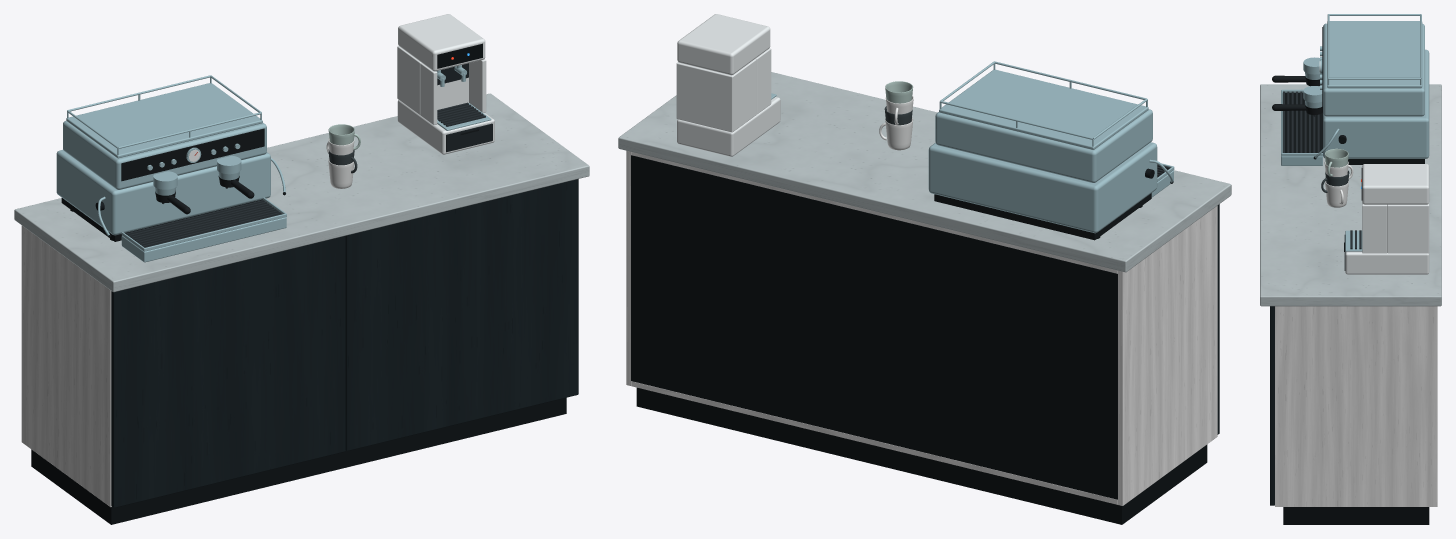
The model's file is Office_Coffee_Bar.glb.
3 views of the same model, side by side, from view 1: azimuth 30°, elevation 25°; view 2: azimuth 150°, elevation 25°; view 3: azimuth 270°, elevation 25° (orthographic). The views are drawn at different scales.
Visible parts, largest first — view 1: Door_Left, Door_Right, Countertop_Slab, Side_Left, Plinth, Housing_Lower, Cup_Warmer, Housing_Upper, Drip_Tray_Grate (×2), Head, Control_Panel, Alcove_Back (+6 smaller); view 2: Back_Panel, Countertop_Slab, Side_Left, Housing_Lower, Plinth, Cup_Warmer, Housing_Upper, Alcove_Back, Head, Bottom_Panel, Bay_Body, Top_Panel (+3 smaller); view 3: Side_Right, Countertop_Slab, Cup_Warmer, Housing_Lower, Housing_Upper, Head, Plinth, Alcove_Back, Bay_Body, Drip_Tray_Basin, Alcove_Wall_Right, Drip_Tray_Grate (+10 smaller).
Boxes of the visible parts, bbox=[...] form: Door_Left: bbox=[111, 236, 345, 507]; Door_Right: bbox=[345, 179, 578, 450]; Countertop_Slab: bbox=[14, 93, 589, 292]; Side_Left: bbox=[21, 225, 111, 507]; Plinth: bbox=[31, 397, 566, 524]; Housing_Lower: bbox=[56, 150, 270, 235]; Cup_Warmer: bbox=[66, 83, 262, 158]; Housing_Upper: bbox=[63, 121, 266, 189]; Drip_Tray_Grate (×2): bbox=[125, 102, 485, 247]; Head: bbox=[398, 14, 485, 71]; Control_Panel: bbox=[121, 128, 264, 181]; Alcove_Back: bbox=[397, 46, 468, 114]; Back_Panel: bbox=[631, 155, 1117, 499]; Countertop_Slab: bbox=[618, 72, 1231, 272]; Side_Left: bbox=[1118, 205, 1217, 505]; Housing_Lower: bbox=[928, 142, 1157, 233]; Plinth: bbox=[636, 387, 1207, 524]; Cup_Warmer: bbox=[939, 69, 1148, 149]; Housing_Upper: bbox=[935, 109, 1152, 182]; Alcove_Back: bbox=[676, 59, 756, 132]; Head: bbox=[677, 14, 770, 75]; Bottom_Panel: bbox=[631, 381, 1117, 504]; Bay_Body: bbox=[677, 97, 780, 156]; Top_Panel: bbox=[631, 152, 1117, 273]; Side_Right: bbox=[1275, 306, 1437, 506]; Countertop_Slab: bbox=[1260, 84, 1441, 306]; Cup_Warmer: bbox=[1327, 21, 1422, 88]; Housing_Lower: bbox=[1323, 49, 1429, 158]; Housing_Upper: bbox=[1323, 23, 1424, 116]; Head: bbox=[1362, 164, 1429, 204]; Plinth: bbox=[1283, 507, 1429, 524]; Alcove_Back: bbox=[1387, 202, 1429, 253]; Bay_Body: bbox=[1345, 251, 1429, 274]; Drip_Tray_Basin: bbox=[1282, 92, 1322, 152]; Alcove_Wall_Right: bbox=[1362, 204, 1387, 253]; Drip_Tray_Grate: bbox=[1283, 91, 1319, 152].
Size of the model in its own units: 1.8 by 1.27 by 0.65.
Materials: 22 (3 with a texture image).
